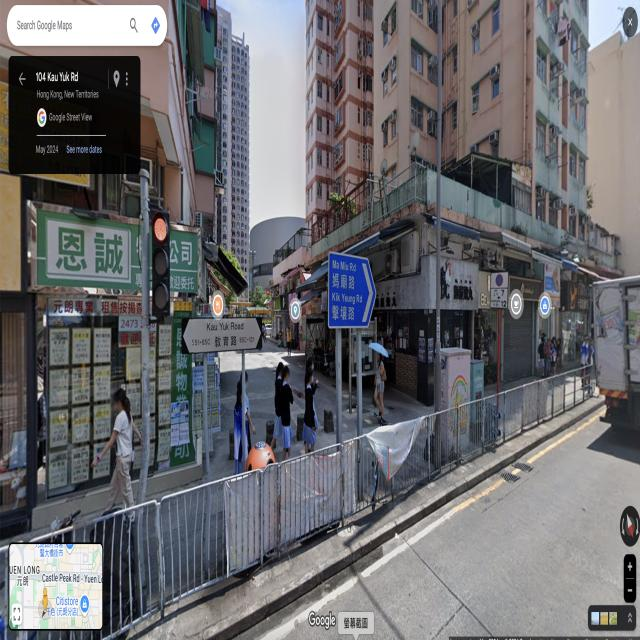Direction-Sign: (329, 253, 376, 328)
Order-Sign: (492, 273, 508, 308)
Street-Direction-Sign: (182, 317, 262, 351)
